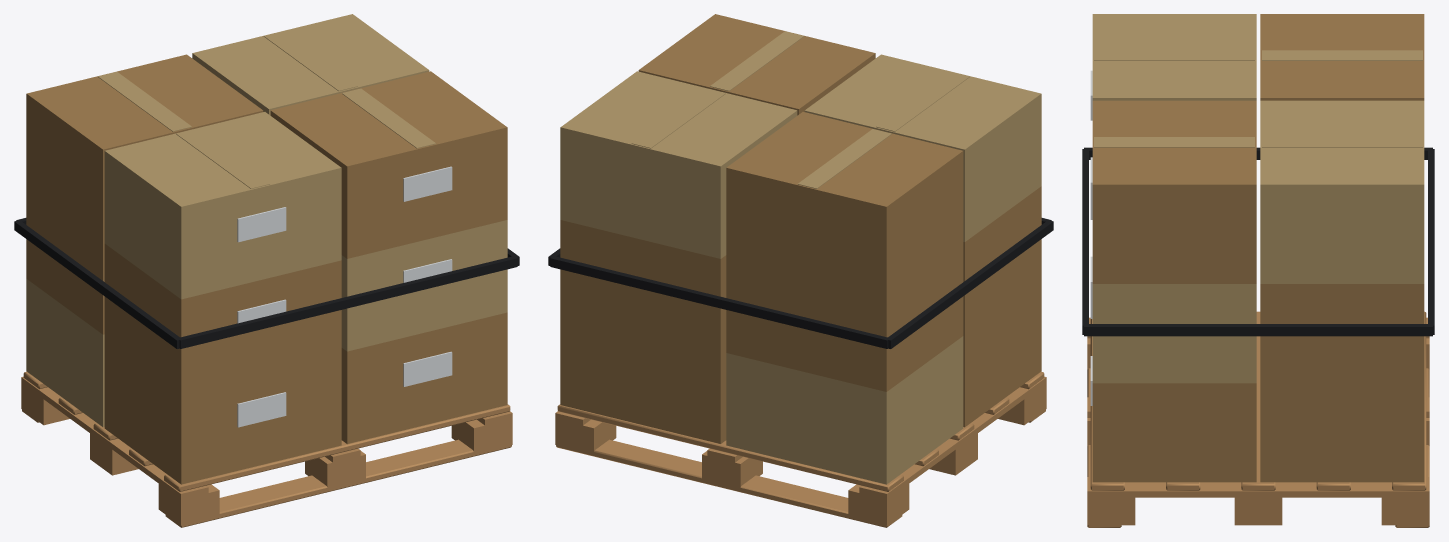
File: pallet_boxes_layered.glb
The picture shows the model from 3 angles, left to right: view 1: azimuth 30°, elevation 25°; view 2: azimuth 150°, elevation 25°; view 3: azimuth 270°, elevation 25°; orthographic projection. The views are drawn at different scales.
Parts seen in each view (by area): view 1: pallet_boxes_layered; view 2: pallet_boxes_layered; view 3: pallet_boxes_layered.
Part boxes in pixels (x1=…): pallet_boxes_layered: x1=14, y1=14, x2=519, y2=527; pallet_boxes_layered: x1=548, y1=14, x2=1053, y2=527; pallet_boxes_layered: x1=1082, y1=14, x2=1434, y2=527.
Size of the model in its own units: 1.24 by 1.11 by 1.03.
